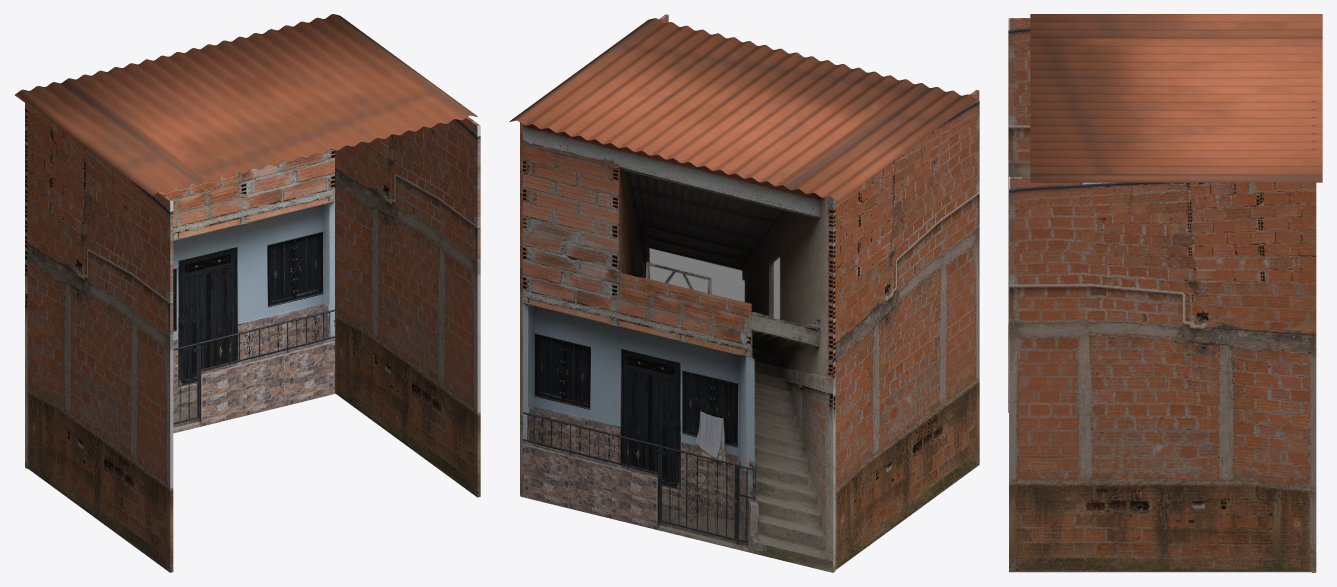
The model's file is casa_izquierda_10.fbx.
3 renders of one model, left to right at view 1: azimuth 30°, elevation 25°; view 2: azimuth 150°, elevation 25°; view 3: azimuth 270°, elevation 25°, orthographic. The views are drawn at different scales.
Visible parts, largest first — view 1: casa_izquierda_05A.007, casa_izquierda_05A.006, Techo_10.002, casa_izquierda_10; view 2: casa_izquierda_10, casa_izquierda_05A.007, Techo_10.002, casa_izquierda_05A.006; view 3: casa_izquierda_05A.006, Techo_10.002, casa_izquierda_05A.007.
Part boxes in pixels (x1=…): casa_izquierda_05A.007: x1=27, y1=105, x2=173, y2=572; casa_izquierda_05A.006: x1=335, y1=116, x2=480, y2=497; Techo_10.002: x1=15, y1=14, x2=477, y2=195; casa_izquierda_10: x1=25, y1=21, x2=335, y2=468; casa_izquierda_10: x1=520, y1=121, x2=835, y2=572; casa_izquierda_05A.007: x1=835, y1=89, x2=979, y2=570; Techo_10.002: x1=509, y1=18, x2=976, y2=201; casa_izquierda_05A.006: x1=520, y1=14, x2=668, y2=496; casa_izquierda_05A.006: x1=1009, y1=177, x2=1316, y2=572; Techo_10.002: x1=1030, y1=14, x2=1322, y2=182; casa_izquierda_05A.007: x1=1008, y1=18, x2=1030, y2=412.
Bounding box in the file's own units: 800 × 882 × 631.
